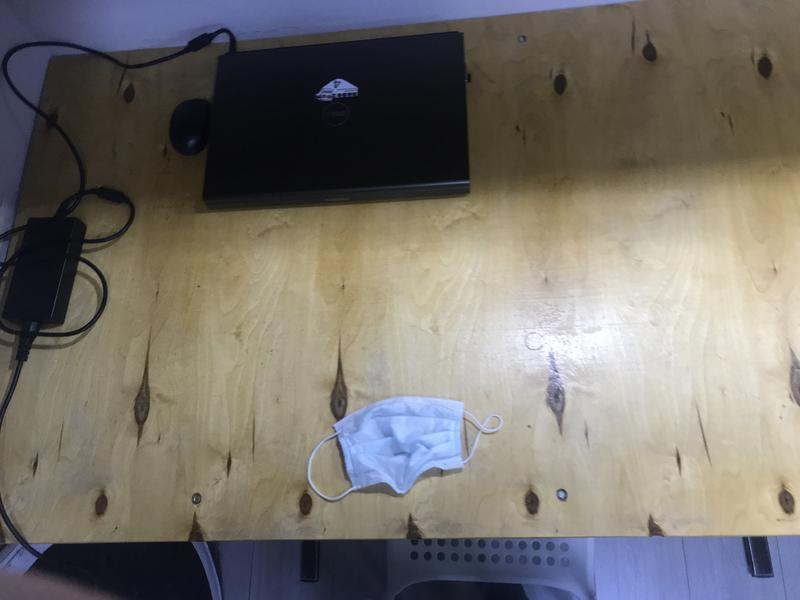medical_mask: (306, 398, 503, 501)
